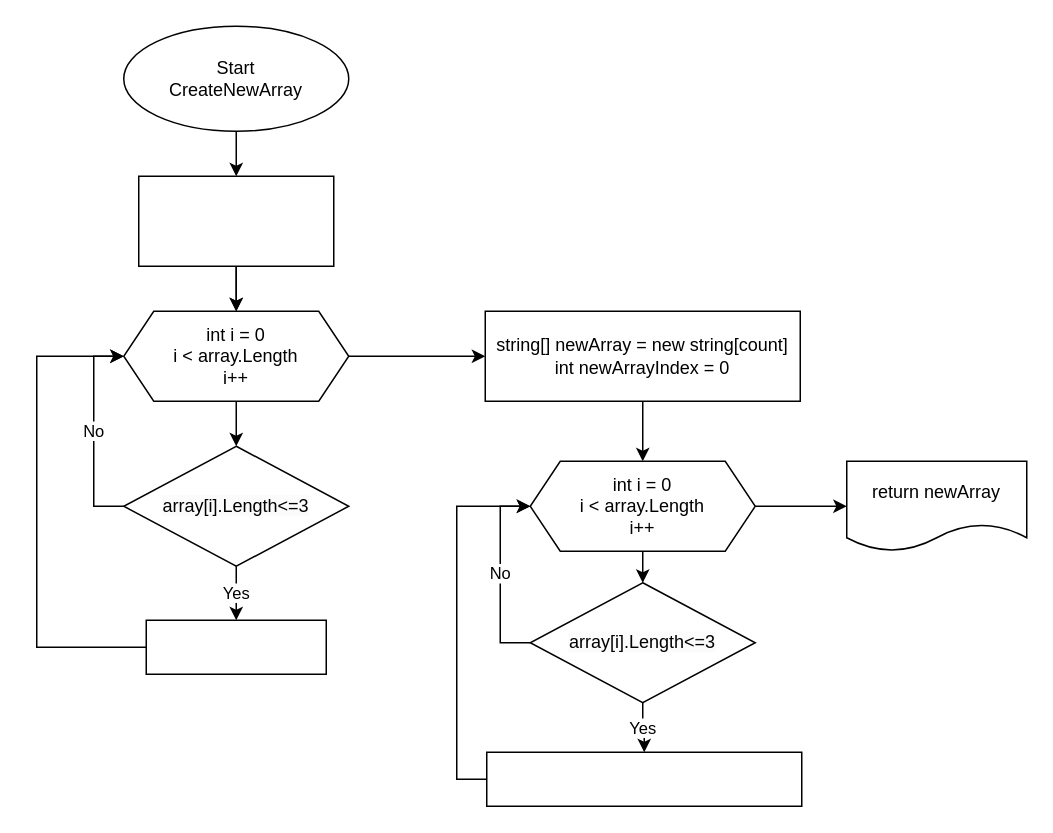
The diagram is 1053 pixels wide and 833 high, and some of its shapes have lost their labels. Each missing label, with the box of its shape:
count++: (145, 619, 326, 674)
newArray[newArrayIndex] = array[i] newArrayIndex ++: (485, 751, 802, 806)
srting [] array int count = 0: (137, 175, 334, 266)
